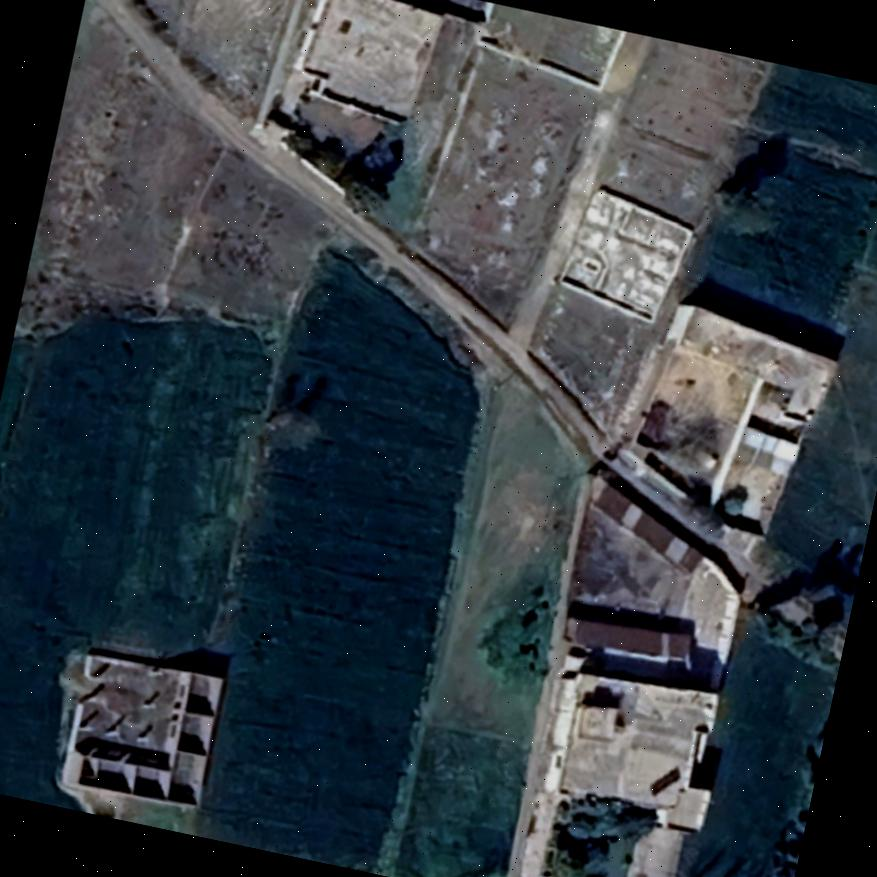Solarpanel: (648, 769, 680, 796)
